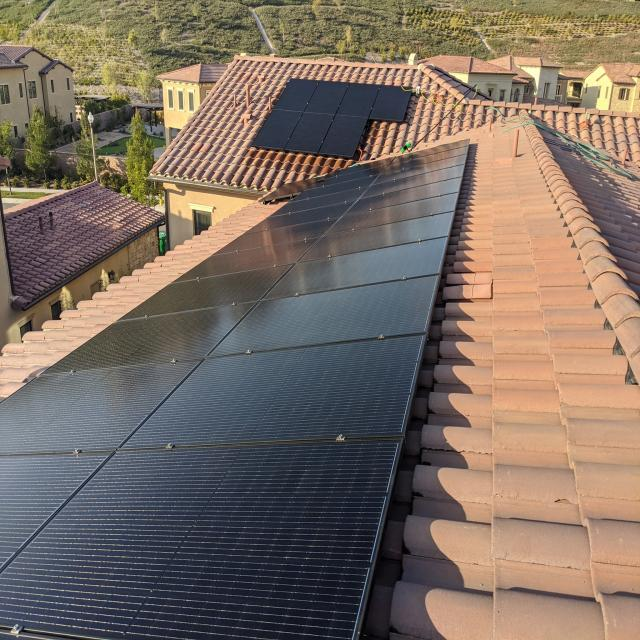clean-solar-panel: (0, 142, 469, 638)
